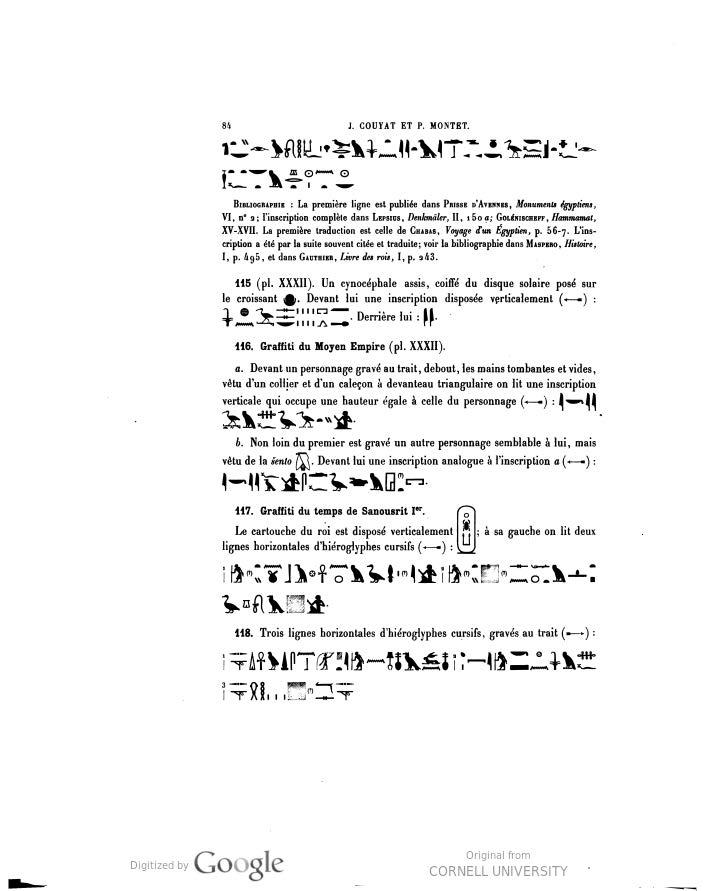circle: (452, 494, 483, 573)
